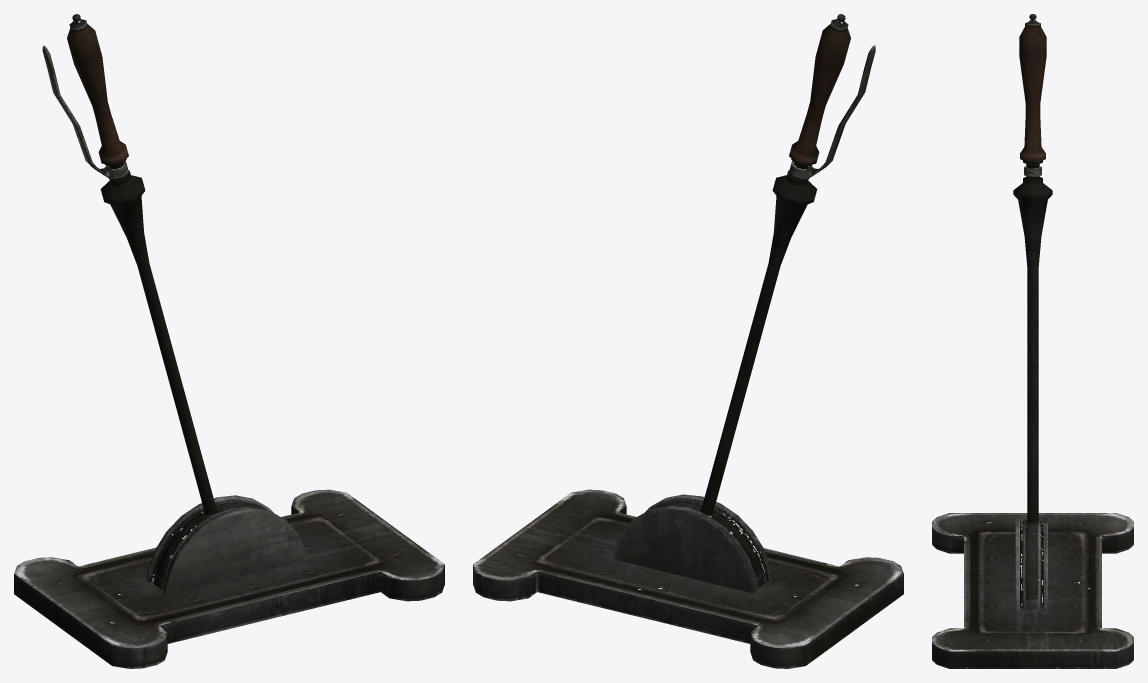
The model's file is tesla_dressing_metaldetails_handle_01.dae.
3 renders of one model, left to right at view 1: azimuth 30°, elevation 25°; view 2: azimuth 150°, elevation 25°; view 3: azimuth 270°, elevation 25°, orthographic. The views are drawn at different scales.
Parts seen in each view (by area): view 1: metaldetails_base, metaldetails_handle; view 2: metaldetails_base, metaldetails_handle; view 3: metaldetails_base, metaldetails_handle.
Boxes of the visible parts, <box> form: metaldetails_base: <box>14,489,444,668</box>; metaldetails_handle: <box>42,14,217,514</box>; metaldetails_base: <box>473,489,903,668</box>; metaldetails_handle: <box>700,14,875,514</box>; metaldetails_base: <box>932,513,1133,668</box>; metaldetails_handle: <box>1013,14,1052,522</box>.
Bounding box in the file's own units: 86.21 × 143 × 50.19.
